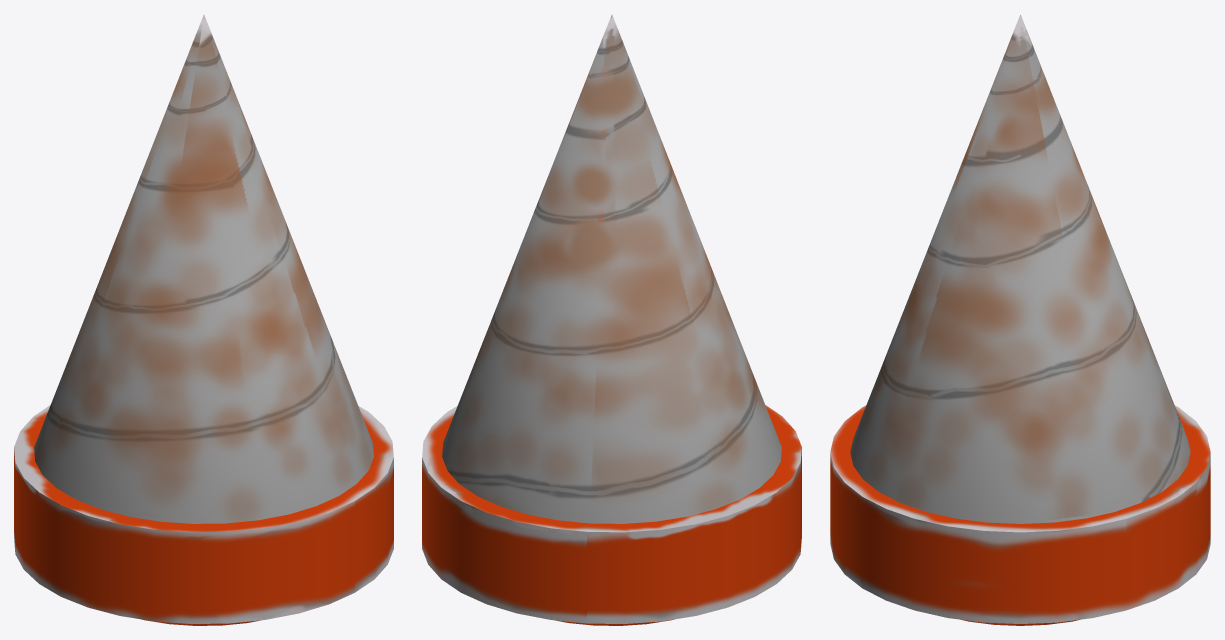
The model's file is drillgurran.fbx.
3 views of the same model, side by side, from view 1: azimuth 30°, elevation 25°; view 2: azimuth 150°, elevation 25°; view 3: azimuth 270°, elevation 25° (orthographic).
Parts seen in each view (by area): view 1: Cylinder; view 2: Cylinder; view 3: Cylinder.
Boxes of the visible parts, left/top/right/bottom form: Cylinder: left=14, top=14, right=393, bottom=625; Cylinder: left=422, top=14, right=801, bottom=625; Cylinder: left=830, top=14, right=1210, bottom=625.
Size of the model in its own units: 223 by 371 by 223.
